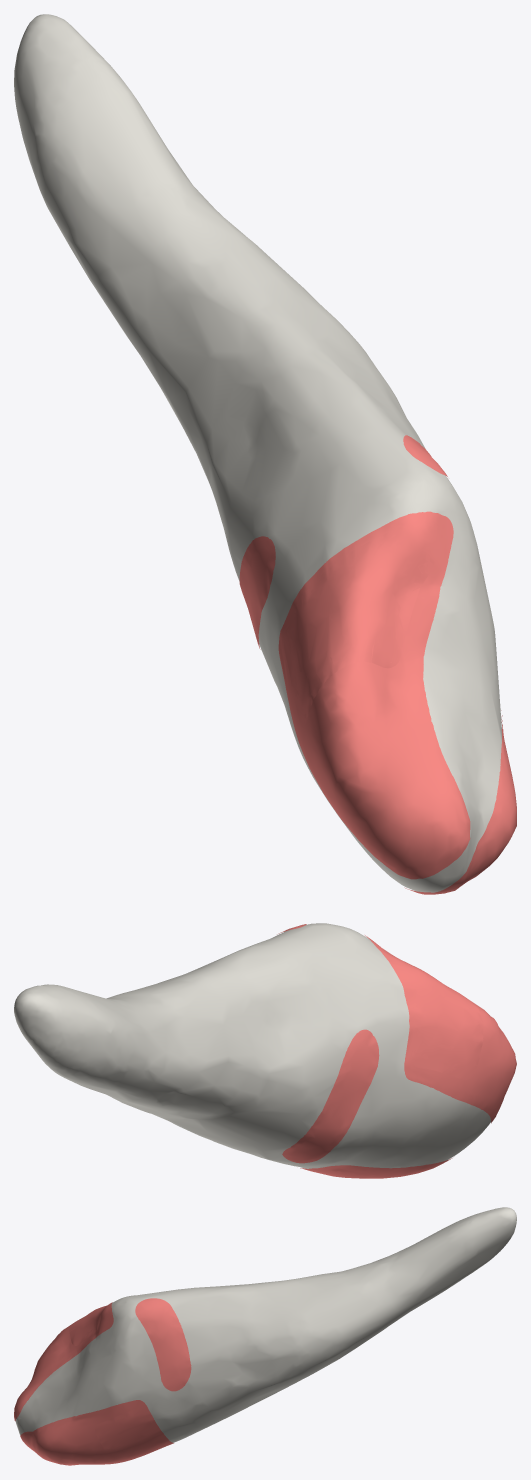
Rendered from tooth_43_FMA55686.glb.
3 views of the same model, one above another, from view 1: azimuth 30°, elevation 25°; view 2: azimuth 150°, elevation 25°; view 3: azimuth 270°, elevation 25° (orthographic). The views are drawn at different scales.
Parts seen in each view (by area): view 1: tooth_43, class4_distal, class3_distal, class4_mesial, class5_facial; view 2: tooth_43, class4_distal, class3_distal, class5_facial, class4_mesial, class3_mesial; view 3: tooth_43, class4_mesial, class5_lingual, class3_mesial, class4_distal, class3_distal.
Part boxes in pixels (<box>): tooth_43: <box>14,14,501,892</box>; class4_distal: <box>278,511,470,879</box>; class3_distal: <box>284,521,442,727</box>; class4_mesial: <box>404,710,516,894</box>; class5_facial: <box>239,536,275,649</box>; tooth_43: <box>14,923,491,1168</box>; class4_distal: <box>365,935,516,1123</box>; class3_distal: <box>371,939,483,1079</box>; class5_facial: <box>282,1029,379,1163</box>; class4_mesial: <box>300,1158,452,1178</box>; class3_mesial: <box>304,1168,375,1178</box>; tooth_43: <box>15,1207,516,1442</box>; class4_mesial: <box>20,1400,173,1465</box>; class5_lingual: <box>135,1298,191,1391</box>; class3_mesial: <box>95,1408,169,1462</box>; class4_distal: <box>14,1302,113,1421</box>; class3_distal: <box>69,1305,108,1345</box>.
Bounding box in the file's own units: 8.2 × 14.77 × 25.38.
